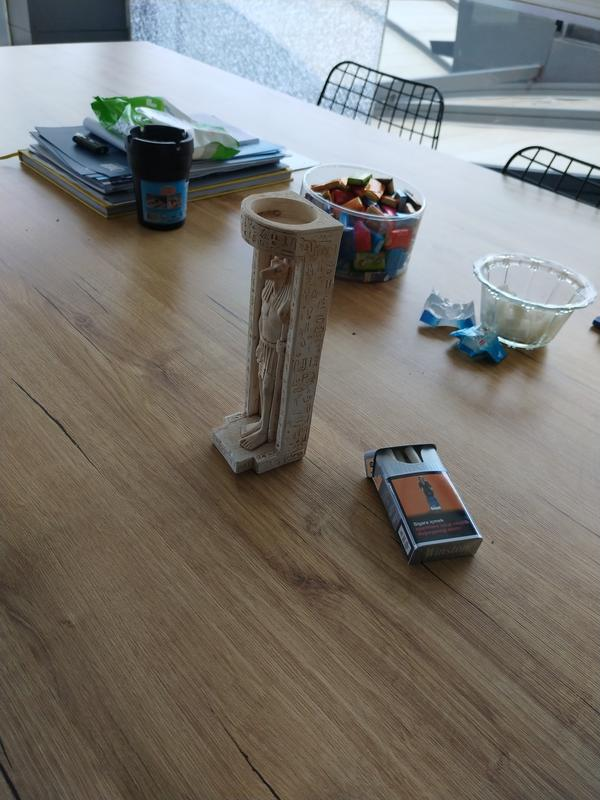heykel: (205, 185, 348, 489)
